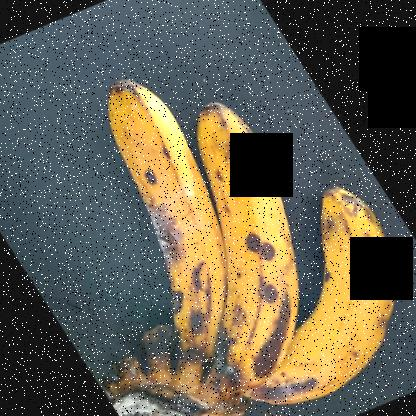overripe: (188, 93, 320, 415), (92, 67, 230, 359), (289, 182, 401, 398)
